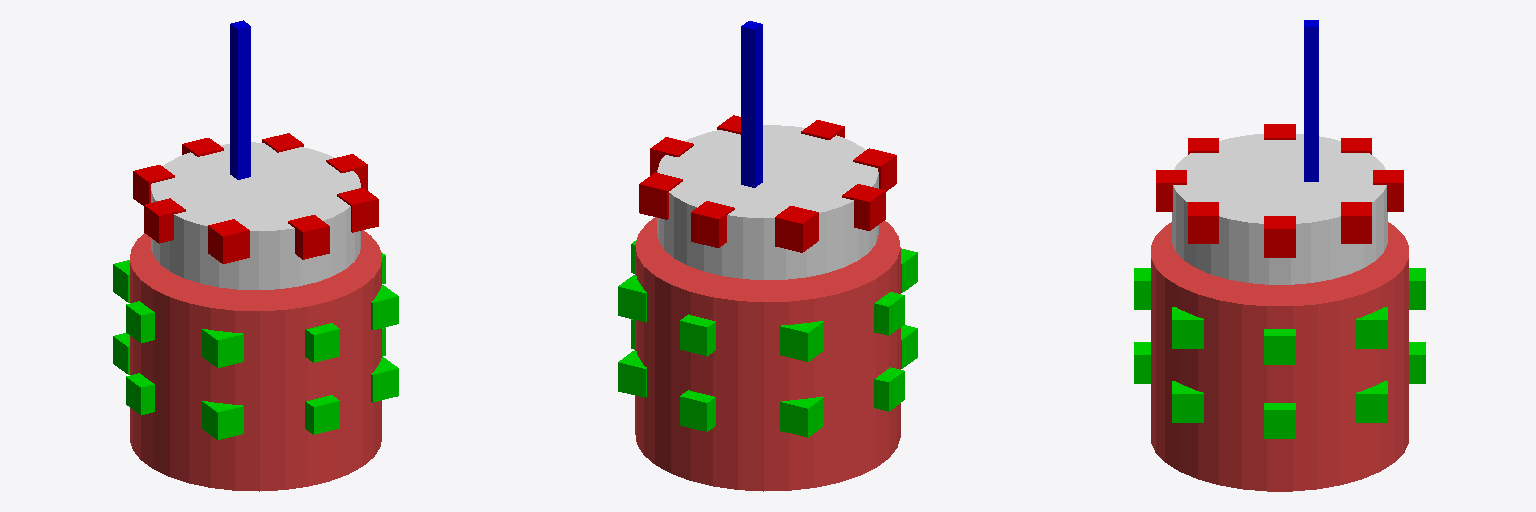
The robot description file, URDF, robot "random_bottle":
<?xml version="1.0"?>
<robot name="random_bottle">

  <!-- Define the cap link -->
  <link name="link1">
    <visual>
      <geometry>
        <mesh filename="cap.obj" scale="1.0 1.0 1.0"/>
      </geometry>
       <material name="white">
        <color rgba=".9 .9 .9 1"/>
      </material>

    </visual>
    <collision>
      <geometry>
        <mesh filename="cap.obj" scale="1.0 1.0 1.0"/>
      </geometry>
    </collision>

    <inertial>
      <mass value="0.016943237644953774"/> <!-- You can adjust the mass as needed -->
      <origin rpy="0 0 0" xyz="0 0 0"/>
      <inertia ixx="5.6636286032965775e-06" ixy="0.0" ixz="0.0" iyy="5.6636286032965775e-06" iyz="0.0" izz="1.0053940390226049e-05"/>
    </inertial>
  </link>

    <link name="l10">
    <visual>
      <geometry>
        <box size="0.01 0.01 0.01"/>
      </geometry>

      <material name="red">
        <color rgba="0.9 0.0 0.0 1"/>
      </material>

    </visual>

    <inertial>
      <mass value="0.0001"/> <!-- You can adjust the mass as needed -->
      <origin rpy="0 0 0" xyz="0 0 -0.00"/> <!-- Offset by half of link1's height + 0.03m for the margin -->
      <inertia ixx="0.000000003" ixy="0.0" ixz="0.0" iyy="0.0000003" iyz="0.0" izz="0.00000003"/>
    </inertial>

  </link>
  <link name="l11">
    <visual>
      <geometry>
        <box size="0.01 0.01 0.01"/>
      </geometry>

      <material name="red">
        <color rgba="0.9 0.0 0.0 1"/>
      </material>

    </visual>

    <inertial>
      <mass value="0.0001"/> <!-- You can adjust the mass as needed -->
      <origin rpy="0 0 0" xyz="0 0 -0.00"/> <!-- Offset by half of link1's height + 0.03m for the margin -->
      <inertia ixx="0.000000003" ixy="0.0" ixz="0.0" iyy="0.0000003" iyz="0.0" izz="0.00000003"/>
    </inertial>

  </link>
  <link name="l12">
    <visual>
      <geometry>
        <box size="0.01 0.01 0.01"/>
      </geometry>

      <material name="red">
        <color rgba="0.9 0.0 0.0 1"/>
      </material>

    </visual>

    <inertial>
      <mass value="0.0001"/> <!-- You can adjust the mass as needed -->
      <origin rpy="0 0 0" xyz="0 0 -0.00"/> <!-- Offset by half of link1's height + 0.03m for the margin -->
      <inertia ixx="0.000000003" ixy="0.0" ixz="0.0" iyy="0.0000003" iyz="0.0" izz="0.00000003"/>
    </inertial>

  </link>
  <link name="l13">
    <visual>
      <geometry>
        <box size="0.01 0.01 0.01"/>
      </geometry>

      <material name="red">
        <color rgba="0.9 0.0 0.0 1"/>
      </material>

    </visual>

    <inertial>
      <mass value="0.0001"/> <!-- You can adjust the mass as needed -->
      <origin rpy="0 0 0" xyz="0 0 -0.00"/> <!-- Offset by half of link1's height + 0.03m for the margin -->
      <inertia ixx="0.000000003" ixy="0.0" ixz="0.0" iyy="0.0000003" iyz="0.0" izz="0.00000003"/>
    </inertial>

  </link>
  <link name="l10b">
    <visual>
      <geometry>
        <box size="0.01 0.01 0.01"/>
      </geometry>

      <material name="red">
        <color rgba="0.9 0.0 0.0 1"/>
      </material>

    </visual>

    <inertial>
      <mass value="0.0001"/> <!-- You can adjust the mass as needed -->
      <origin rpy="0 0 0" xyz="0 0 -0.00"/> <!-- Offset by half of link1's height + 0.03m for the margin -->
      <inertia ixx="0.000000003" ixy="0.0" ixz="0.0" iyy="0.0000003" iyz="0.0" izz="0.00000003"/>
    </inertial>

  </link>
  <link name="l11b">
    <visual>
      <geometry>
        <box size="0.01 0.01 0.01"/>
      </geometry>

      <material name="red">
        <color rgba="0.9 0.0 0.0 1"/>
      </material>

    </visual>

    <inertial>
      <mass value="0.0001"/> <!-- You can adjust the mass as needed -->
      <origin rpy="0 0 0" xyz="0 0 -0.00"/> <!-- Offset by half of link1's height + 0.03m for the margin -->
      <inertia ixx="0.000000003" ixy="0.0" ixz="0.0" iyy="0.0000003" iyz="0.0" izz="0.00000003"/>
    </inertial>

  </link>
  <link name="l12b">
    <visual>
      <geometry>
        <box size="0.01 0.01 0.01"/>
      </geometry>

      <material name="red">
        <color rgba="0.9 0.0 0.0 1"/>
      </material>

    </visual>

    <inertial>
      <mass value="0.0001"/> <!-- You can adjust the mass as needed -->
      <origin rpy="0 0 0" xyz="0 0 -0.00"/> <!-- Offset by half of link1's height + 0.03m for the margin -->
      <inertia ixx="0.000000003" ixy="0.0" ixz="0.0" iyy="0.0000003" iyz="0.0" izz="0.00000003"/>
    </inertial>

  </link>
  <link name="l13b">
    <visual>
      <geometry>
        <box size="0.01 0.01 0.01"/>
      </geometry>

      <material name="red">
        <color rgba="0.9 0.0 0.0 1"/>
      </material>

    </visual>

    <inertial>
      <mass value="0.0001"/> <!-- You can adjust the mass as needed -->
      <origin rpy="0 0 0" xyz="0 0 -0.00"/> <!-- Offset by half of link1's height + 0.03m for the margin -->
      <inertia ixx="0.000000003" ixy="0.0" ixz="0.0" iyy="0.0000003" iyz="0.0" izz="0.00000003"/>
    </inertial>

  </link>
  <link name="l20">
    <visual>
      <geometry>
        <box size="0.01 0.01 0.01"/>
      </geometry>

      <material name="red">
        <color rgba="0.0 0.9 0.0 1"/>
      </material>

    </visual>

    <inertial>
      <mass value="0.0001"/> <!-- You can adjust the mass as needed -->
      <origin rpy="0 0 0" xyz="0 0 -0.00"/> <!-- Offset by half of link1's height + 0.03m for the margin -->
      <inertia ixx="0.000000003" ixy="0.0" ixz="0.0" iyy="0.0000003" iyz="0.0" izz="0.00000003"/>
    </inertial>

  </link>
  <link name="l21">
    <visual>
      <geometry>
        <box size="0.01 0.01 0.01"/>
      </geometry>

      <material name="red">
        <color rgba="0.0 0.9 0.0 1"/>
      </material>

    </visual>

    <inertial>
      <mass value="0.0001"/> <!-- You can adjust the mass as needed -->
      <origin rpy="0 0 0" xyz="0 0 -0.00"/> <!-- Offset by half of link1's height + 0.03m for the margin -->
      <inertia ixx="0.000000003" ixy="0.0" ixz="0.0" iyy="0.0000003" iyz="0.0" izz="0.00000003"/>
    </inertial>

  </link>
  <link name="l22">
    <visual>
      <geometry>
        <box size="0.01 0.01 0.01"/>
      </geometry>

      <material name="red">
        <color rgba="0.0 0.9 0.0 1"/>
      </material>

    </visual>

    <inertial>
      <mass value="0.0001"/> <!-- You can adjust the mass as needed -->
      <origin rpy="0 0 0" xyz="0 0 -0.00"/> <!-- Offset by half of link1's height + 0.03m for the margin -->
      <inertia ixx="0.000000003" ixy="0.0" ixz="0.0" iyy="0.0000003" iyz="0.0" izz="0.00000003"/>
    </inertial>

  </link>
  <link name="l23">
    <visual>
      <geometry>
        <box size="0.01 0.01 0.01"/>
      </geometry>

      <material name="red">
        <color rgba="0.0 0.9 0.0 1"/>
      </material>

    </visual>

    <inertial>
      <mass value="0.0001"/> <!-- You can adjust the mass as needed -->
      <origin rpy="0 0 0" xyz="0 0 -0.00"/> <!-- Offset by half of link1's height + 0.03m for the margin -->
      <inertia ixx="0.000000003" ixy="0.0" ixz="0.0" iyy="0.0000003" iyz="0.0" izz="0.00000003"/>
    </inertial>

  </link>
  <link name="l24">
    <visual>
      <geometry>
        <box size="0.01 0.01 0.01"/>
      </geometry>

      <material name="red">
        <color rgba="0.0 0.9 0.0 1"/>
      </material>

    </visual>

    <inertial>
      <mass value="0.0001"/> <!-- You can adjust the mass as needed -->
      <origin rpy="0 0 0" xyz="0 0 -0.00"/> <!-- Offset by half of link1's height + 0.03m for the margin -->
      <inertia ixx="0.000000003" ixy="0.0" ixz="0.0" iyy="0.0000003" iyz="0.0" izz="0.00000003"/>
    </inertial>

  </link>
  <link name="l25">
    <visual>
      <geometry>
        <box size="0.01 0.01 0.01"/>
      </geometry>

      <material name="red">
        <color rgba="0.0 0.9 0.0 1"/>
      </material>

    </visual>

    <inertial>
      <mass value="0.0001"/> <!-- You can adjust the mass as needed -->
      <origin rpy="0 0 0" xyz="0 0 -0.00"/> <!-- Offset by half of link1's height + 0.03m for the margin -->
      <inertia ixx="0.000000003" ixy="0.0" ixz="0.0" iyy="0.0000003" iyz="0.0" izz="0.00000003"/>
    </inertial>

  </link>
  <link name="l26">
    <visual>
      <geometry>
        <box size="0.01 0.01 0.01"/>
      </geometry>

      <material name="red">
        <color rgba="0.0 0.9 0.0 1"/>
      </material>

    </visual>

    <inertial>
      <mass value="0.0001"/> <!-- You can adjust the mass as needed -->
      <origin rpy="0 0 0" xyz="0 0 -0.00"/> <!-- Offset by half of link1's height + 0.03m for the margin -->
      <inertia ixx="0.000000003" ixy="0.0" ixz="0.0" iyy="0.0000003" iyz="0.0" izz="0.00000003"/>
    </inertial>

  </link>
  <link name="l27">
    <visual>
      <geometry>
        <box size="0.01 0.01 0.01"/>
      </geometry>

      <material name="red">
        <color rgba="0.0 0.9 0.0 1"/>
      </material>

    </visual>

    <inertial>
      <mass value="0.0001"/> <!-- You can adjust the mass as needed -->
      <origin rpy="0 0 0" xyz="0 0 -0.00"/> <!-- Offset by half of link1's height + 0.03m for the margin -->
      <inertia ixx="0.000000003" ixy="0.0" ixz="0.0" iyy="0.0000003" iyz="0.0" izz="0.00000003"/>
    </inertial>

  </link>
  <link name="l30">
    <visual>
      <geometry>
        <box size="0.01 0.01 0.01"/>
      </geometry>

      <material name="red">
        <color rgba="0.0 0.9 0.0 1"/>
      </material>

    </visual>

    <inertial>
      <mass value="0.0001"/> <!-- You can adjust the mass as needed -->
      <origin rpy="0 0 0" xyz="0 0 -0.00"/> <!-- Offset by half of link1's height + 0.03m for the margin -->
      <inertia ixx="0.000000003" ixy="0.0" ixz="0.0" iyy="0.0000003" iyz="0.0" izz="0.00000003"/>
    </inertial>

  </link>
  <link name="l31">
    <visual>
      <geometry>
        <box size="0.01 0.01 0.01"/>
      </geometry>

      <material name="red">
        <color rgba="0.0 0.9 0.0 1"/>
      </material>

    </visual>

    <inertial>
      <mass value="0.0001"/> <!-- You can adjust the mass as needed -->
      <origin rpy="0 0 0" xyz="0 0 -0.00"/> <!-- Offset by half of link1's height + 0.03m for the margin -->
      <inertia ixx="0.000000003" ixy="0.0" ixz="0.0" iyy="0.0000003" iyz="0.0" izz="0.00000003"/>
    </inertial>

  </link>
  <link name="l32">
    <visual>
      <geometry>
        <box size="0.01 0.01 0.01"/>
      </geometry>

      <material name="red">
        <color rgba="0.0 0.9 0.0 1"/>
      </material>

    </visual>

    <inertial>
      <mass value="0.0001"/> <!-- You can adjust the mass as needed -->
      <origin rpy="0 0 0" xyz="0 0 -0.00"/> <!-- Offset by half of link1's height + 0.03m for the margin -->
      <inertia ixx="0.000000003" ixy="0.0" ixz="0.0" iyy="0.0000003" iyz="0.0" izz="0.00000003"/>
    </inertial>

  </link>
  <link name="l33">
    <visual>
      <geometry>
        <box size="0.01 0.01 0.01"/>
      </geometry>

      <material name="red">
        <color rgba="0.0 0.9 0.0 1"/>
      </material>

    </visual>

    <inertial>
      <mass value="0.0001"/> <!-- You can adjust the mass as needed -->
      <origin rpy="0 0 0" xyz="0 0 -0.00"/> <!-- Offset by half of link1's height + 0.03m for the margin -->
      <inertia ixx="0.000000003" ixy="0.0" ixz="0.0" iyy="0.0000003" iyz="0.0" izz="0.00000003"/>
    </inertial>

  </link>
  <link name="l34">
    <visual>
      <geometry>
        <box size="0.01 0.01 0.01"/>
      </geometry>

      <material name="red">
        <color rgba="0.0 0.9 0.0 1"/>
      </material>

    </visual>

    <inertial>
      <mass value="0.0001"/> <!-- You can adjust the mass as needed -->
      <origin rpy="0 0 0" xyz="0 0 -0.00"/> <!-- Offset by half of link1's height + 0.03m for the margin -->
      <inertia ixx="0.000000003" ixy="0.0" ixz="0.0" iyy="0.0000003" iyz="0.0" izz="0.00000003"/>
    </inertial>

  </link>
  <link name="l35">
    <visual>
      <geometry>
        <box size="0.01 0.01 0.01"/>
      </geometry>

      <material name="red">
        <color rgba="0.0 0.9 0.0 1"/>
      </material>

    </visual>

    <inertial>
      <mass value="0.0001"/> <!-- You can adjust the mass as needed -->
      <origin rpy="0 0 0" xyz="0 0 -0.00"/> <!-- Offset by half of link1's height + 0.03m for the margin -->
      <inertia ixx="0.000000003" ixy="0.0" ixz="0.0" iyy="0.0000003" iyz="0.0" izz="0.00000003"/>
    </inertial>

  </link>
  <link name="l36">
    <visual>
      <geometry>
        <box size="0.01 0.01 0.01"/>
      </geometry>

      <material name="red">
        <color rgba="0.0 0.9 0.0 1"/>
      </material>

    </visual>

    <inertial>
      <mass value="0.0001"/> <!-- You can adjust the mass as needed -->
      <origin rpy="0 0 0" xyz="0 0 -0.00"/> <!-- Offset by half of link1's height + 0.03m for the margin -->
      <inertia ixx="0.000000003" ixy="0.0" ixz="0.0" iyy="0.0000003" iyz="0.0" izz="0.00000003"/>
    </inertial>

  </link>
  <link name="l37">
    <visual>
      <geometry>
        <box size="0.01 0.01 0.01"/>
      </geometry>

      <material name="red">
        <color rgba="0.0 0.9 0.0 1"/>
      </material>

    </visual>

    <inertial>
      <mass value="0.0001"/> <!-- You can adjust the mass as needed -->
      <origin rpy="0 0 0" xyz="0 0 -0.00"/> <!-- Offset by half of link1's height + 0.03m for the margin -->
      <inertia ixx="0.000000003" ixy="0.0" ixz="0.0" iyy="0.0000003" iyz="0.0" izz="0.00000003"/>
    </inertial>

  </link>


  <link name="hint">
    <visual>
      <geometry>
        <box size="0.005 0.005 0.07"/> <!-- 9cm x 9cm x 6cm -->
      </geometry>
       <material name="blue">
        <color rgba=".0 .0 .9 1"/>
      </material>
    </visual>

    <inertial>
      <mass value="0.0001"/> <!-- You can adjust the mass as needed -->
      <origin rpy="0 0 0" xyz="0 0 -0.00"/> <!-- Offset by half of link1's height + 0.03m for the margin -->
      <inertia ixx="0.000000003" ixy="0.0" ixz="0.0" iyy="0.0000003" iyz="0.0" izz="0.00000003"/>
    </inertial>


  </link>

  <!-- Define the base link -->
  <link name="link2">
    <visual>
      <geometry>
        <mesh filename="base.obj" scale="1.0 1.0 1.0"/>
      </geometry>
      <material name="red">
        <color rgba=".9 .3 .3 1"/>
      </material>

    </visual>

    <collision>
      <geometry>
        <mesh filename="base.obj" scale="1.0 1.0 1.0"/>
      </geometry>
    </collision>

    <inertial>
      <mass value="0.049224877316390775"/> <!-- You can adjust the mass as needed -->
      <origin rpy="0 0 0" xyz="0 0 -0.00"/> <!-- Offset by half of link1's height + 0.03m for the margin -->
      <inertia ixx="3.8325769470783745e-05" ixy="0.0" ixz="0.0" iyy="3.8325769470783745e-05" iyz="0.0" izz="4.205212662668933e-05"/>
    </inertial>
  </link>



  <link name="brake">
   <visual>
      <geometry>
        <box size="0.02 0.02 0.005"/> <!-- 6cm x 6cm x 2cm -->
      </geometry>
       <material name="gray">
        <color rgba=".5 .5 .5 1"/>
      </material>

    </visual>
    <collision>
      <geometry>
        <box size="0.02 0.02 0.005"/> <!-- 6cm x 6cm x 2cm -->
      </geometry>
    </collision>

    <inertial>
      <mass value="0.005"/> <!-- You can adjust the mass as needed -->
      <origin rpy="0 0 0" xyz="0 0 0"/>
      <inertia ixx="0.00018" ixy="0.0" ixz="0.0" iyy="0.00018" iyz="0.0" izz="0.00018"/>
    </inertial>
  </link>

  <!-- Define the joint connecting link1 and link2 as a revolute joint along z-axis -->
  <joint name="fix_joint" type="fixed">
    <parent link="link1"/>
    <child link="hint"/>
    <origin rpy="0 0 0" xyz="0 0.01 0.03"/> <!-- Offset by half of link1's height for the margin -->
    <axis xyz="0 0 1"/>
  </joint>

  <!-- Define the joint connecting link1 and link2 as a revolute joint along z-axis -->
  <joint name="brake_joint" type="prismatic">
    <parent link="link2"/>
    <child link="brake"/>
    <origin rpy="0 0 0" xyz="0 0 0.0537050793985569"/> <!-- Offset by half of link1's height for the margin -->
    <axis xyz="0 0 1"/>
    <limit lower="-0.02" upper="0.02" />
    <!-- <dynamics damping="0.0" friction="0.0"/> -->
  </joint>


  <joint name="b_joint" type="revolute">
    <parent link="link2"/>
    <child link="link1"/>
    <origin rpy="0 0 0" xyz="0 0 0.047470402296731246"/> <!-- Offset by half of link1's height for the margin -->
    <axis xyz="0 0 1"/>
    <!-- No joint limits -->
    <dynamics damping="0.0" friction="0.0"/>
  </joint>


  <!-- marker -->
    <joint name="jl10" type="fixed">
    <parent link="link1"/>
    <child link="l10"/>
    <origin rpy="0 0 0" xyz="0.0 0.0344496607672353 0.006370403130547694"/> <!-- Offset by half of link1's height for the margin -->
    <axis xyz="0 0 1"/>
  </joint>
  <joint name="jl11" type="fixed">
    <parent link="link1"/>
    <child link="l11"/>
    <origin rpy="0 0 0" xyz="0.024359588411731914 0.024359589064444572 0.006370403130547694"/> <!-- Offset by half of link1's height for the margin -->
    <axis xyz="0 0 1"/>
  </joint>
  <joint name="jl12" type="fixed">
    <parent link="link1"/>
    <child link="l12"/>
    <origin rpy="0 0 0" xyz="0.03444966076723529 9.230750976473881e-10 0.006370403130547694"/> <!-- Offset by half of link1's height for the margin -->
    <axis xyz="0 0 1"/>
  </joint>
  <joint name="jl13" type="fixed">
    <parent link="link1"/>
    <child link="l13"/>
    <origin rpy="0 0 0" xyz="0.02435958971715721 -0.02435958775901924 0.006370403130547694"/> <!-- Offset by half of link1's height for the margin -->
    <axis xyz="0 0 1"/>
  </joint>
  <joint name="jl10b" type="fixed">
    <parent link="link1"/>
    <child link="l10b"/>
    <origin rpy="0 0 0" xyz="1.8461501952947756e-09 -0.034449660767235254 0.006370403130547694"/> <!-- Offset by half of link1's height for the margin -->
    <axis xyz="0 0 1"/>
  </joint>
  <joint name="jl11b" type="fixed">
    <parent link="link1"/>
    <child link="l11b"/>
    <origin rpy="0 0 0" xyz="-0.02435958710630653 -0.024359590369869847 0.006370403130547694"/> <!-- Offset by half of link1's height for the margin -->
    <axis xyz="0 0 1"/>
  </joint>
  <joint name="jl12b" type="fixed">
    <parent link="link1"/>
    <child link="l12b"/>
    <origin rpy="0 0 0" xyz="-0.03444966076723519 -2.769225277643439e-09 0.006370403130547694"/> <!-- Offset by half of link1's height for the margin -->
    <axis xyz="0 0 1"/>
  </joint>
  <joint name="jl13b" type="fixed">
    <parent link="link1"/>
    <child link="l13b"/>
    <origin rpy="0 0 0" xyz="-0.024359591022582443 0.024359586453593828 0.006370403130547694"/> <!-- Offset by half of link1's height for the margin -->
    <axis xyz="0 0 1"/>
  </joint>
  <joint name="jl20" type="fixed">
    <parent link="link2"/>
    <child link="l20"/>
    <origin rpy="0 0 0" xyz="0.0 0.041334877830778646 0.019482241378038747"/> <!-- Offset by half of link1's height for the margin -->
    <axis xyz="0 0 1"/>
  </joint>
  <joint name="jl21" type="fixed">
    <parent link="link2"/>
    <child link="l21"/>
    <origin rpy="0 0 0" xyz="0.02922817202207814 0.029228172805243993 0.019482241378038747"/> <!-- Offset by half of link1's height for the margin -->
    <axis xyz="0 0 1"/>
  </joint>
  <joint name="jl22" type="fixed">
    <parent link="link2"/>
    <child link="l22"/>
    <origin rpy="0 0 0" xyz="0.04133487783077863 1.1075637768305065e-09 0.019482241378038747"/> <!-- Offset by half of link1's height for the margin -->
    <axis xyz="0 0 1"/>
  </joint>
  <joint name="jl23" type="fixed">
    <parent link="link2"/>
    <child link="l23"/>
    <origin rpy="0 0 0" xyz="0.029228173588409824 -0.029228171238912266 0.019482241378038747"/> <!-- Offset by half of link1's height for the margin -->
    <axis xyz="0 0 1"/>
  </joint>
  <joint name="jl24" type="fixed">
    <parent link="link2"/>
    <child link="l24"/>
    <origin rpy="0 0 0" xyz="2.215127553661012e-09 -0.041334877830778584 0.019482241378038747"/> <!-- Offset by half of link1's height for the margin -->
    <axis xyz="0 0 1"/>
  </joint>
  <joint name="jl25" type="fixed">
    <parent link="link2"/>
    <child link="l25"/>
    <origin rpy="0 0 0" xyz="-0.02922817045574636 -0.029228174371575655 0.019482241378038747"/> <!-- Offset by half of link1's height for the margin -->
    <axis xyz="0 0 1"/>
  </joint>
  <joint name="jl26" type="fixed">
    <parent link="link2"/>
    <child link="l26"/>
    <origin rpy="0 0 0" xyz="-0.041334877830778514 -3.322691312135143e-09 0.019482241378038747"/> <!-- Offset by half of link1's height for the margin -->
    <axis xyz="0 0 1"/>
  </joint>
  <joint name="jl27" type="fixed">
    <parent link="link2"/>
    <child link="l27"/>
    <origin rpy="0 0 0" xyz="-0.029228175154741434 0.029228169672580448 0.019482241378038747"/> <!-- Offset by half of link1's height for the margin -->
    <axis xyz="0 0 1"/>
  </joint>
  <joint name="jl30" type="fixed">
    <parent link="link2"/>
    <child link="l30"/>
    <origin rpy="0 0 0" xyz="0.0 0.041334877830778646 -0.00649408045934625"/> <!-- Offset by half of link1's height for the margin -->
    <axis xyz="0 0 1"/>
  </joint>
  <joint name="jl31" type="fixed">
    <parent link="link2"/>
    <child link="l31"/>
    <origin rpy="0 0 0" xyz="0.02922817202207814 0.029228172805243993 -0.00649408045934625"/> <!-- Offset by half of link1's height for the margin -->
    <axis xyz="0 0 1"/>
  </joint>
  <joint name="jl32" type="fixed">
    <parent link="link2"/>
    <child link="l32"/>
    <origin rpy="0 0 0" xyz="0.04133487783077863 1.1075637768305065e-09 -0.00649408045934625"/> <!-- Offset by half of link1's height for the margin -->
    <axis xyz="0 0 1"/>
  </joint>
  <joint name="jl33" type="fixed">
    <parent link="link2"/>
    <child link="l33"/>
    <origin rpy="0 0 0" xyz="0.029228173588409824 -0.029228171238912266 -0.00649408045934625"/> <!-- Offset by half of link1's height for the margin -->
    <axis xyz="0 0 1"/>
  </joint>
  <joint name="jl34" type="fixed">
    <parent link="link2"/>
    <child link="l34"/>
    <origin rpy="0 0 0" xyz="2.215127553661012e-09 -0.041334877830778584 -0.00649408045934625"/> <!-- Offset by half of link1's height for the margin -->
    <axis xyz="0 0 1"/>
  </joint>
  <joint name="jl35" type="fixed">
    <parent link="link2"/>
    <child link="l35"/>
    <origin rpy="0 0 0" xyz="-0.02922817045574636 -0.029228174371575655 -0.00649408045934625"/> <!-- Offset by half of link1's height for the margin -->
    <axis xyz="0 0 1"/>
  </joint>
  <joint name="jl36" type="fixed">
    <parent link="link2"/>
    <child link="l36"/>
    <origin rpy="0 0 0" xyz="-0.041334877830778514 -3.322691312135143e-09 -0.00649408045934625"/> <!-- Offset by half of link1's height for the margin -->
    <axis xyz="0 0 1"/>
  </joint>
  <joint name="jl37" type="fixed">
    <parent link="link2"/>
    <child link="l37"/>
    <origin rpy="0 0 0" xyz="-0.029228175154741434 0.029228169672580448 -0.00649408045934625"/> <!-- Offset by half of link1's height for the margin -->
    <axis xyz="0 0 1"/>
  </joint>



</robot>

--- What the picture shows (computed from the rendered views, not written in the file) ---
The picture shows the robot from 3 angles, left to right: view 1: azimuth 30°, elevation 25°; view 2: azimuth 150°, elevation 25°; view 3: azimuth 270°, elevation 25°; orthographic projection.
Model random_bottle with 28 links and 27 joints (1 revolute, 1 prismatic, 25 fixed), rooted at link2, posed all joints at 0.
Links seen in each view (by area): view 1: link2, link1, hint, l11b, l10b, l35, l25, l12b, l13, l34, l24, l26 (+8 smaller); view 2: link2, link1, hint, l13b, l27, l37, l10, l12b, l11, l30, l20, l26 (+8 smaller); view 3: link2, link1, hint, l12, l11, l13, l21, l23, l31, l33, l22, l32 (+6 smaller).
Link boxes in pixels (x1,y1,x2,y2): link2: (130,230,381,491); link1: (151,142,360,289); hint: (230,20,250,179); l11b: (208,219,249,263); l10b: (288,215,329,259); l35: (202,401,243,439); l25: (202,329,243,367); l12b: (144,198,185,243); l13: (337,188,378,232); l34: (305,395,339,434); l24: (305,323,339,362); l26: (126,301,154,342); link2: (635,217,900,491); link1: (657,125,878,279); hint: (741,21,762,187); l13b: (775,206,818,252); l27: (780,321,823,361); l37: (780,396,823,437); l10: (691,201,734,247); l12b: (842,184,885,230); l11: (639,172,682,219); l30: (680,390,715,431); l20: (680,314,715,356); l26: (874,292,904,335); link2: (1151,222,1408,491); link1: (1172,134,1387,284); hint: (1304,20,1318,181); l12: (1264,216,1295,257); l11: (1341,202,1371,243); l13: (1188,202,1218,243); l21: (1356,307,1387,348); l23: (1172,307,1203,348); l31: (1356,381,1387,422); l33: (1172,381,1203,422); l22: (1264,329,1295,364); l32: (1264,403,1295,438).
Size in the robot's own frame: 0.0927 by 0.0927 by 0.1449 metres.
2 mesh visuals loaded from 2 distinct referenced files (2 OBJ).
